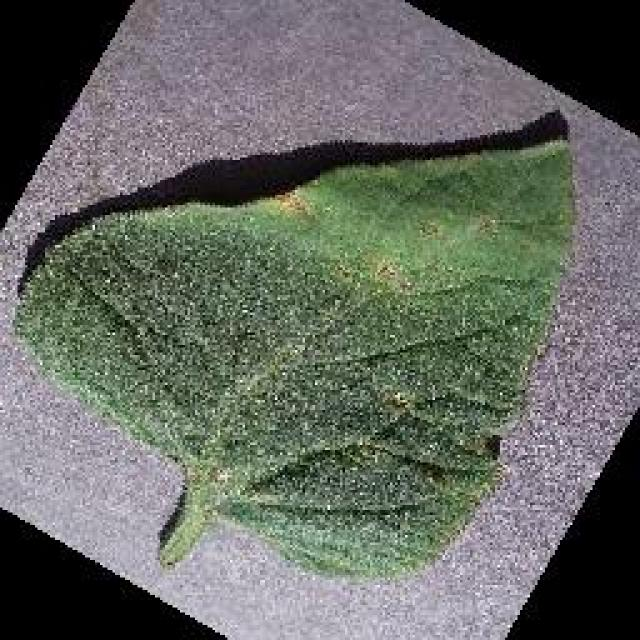Tomato___Target_Spot: (18, 140, 570, 572)
